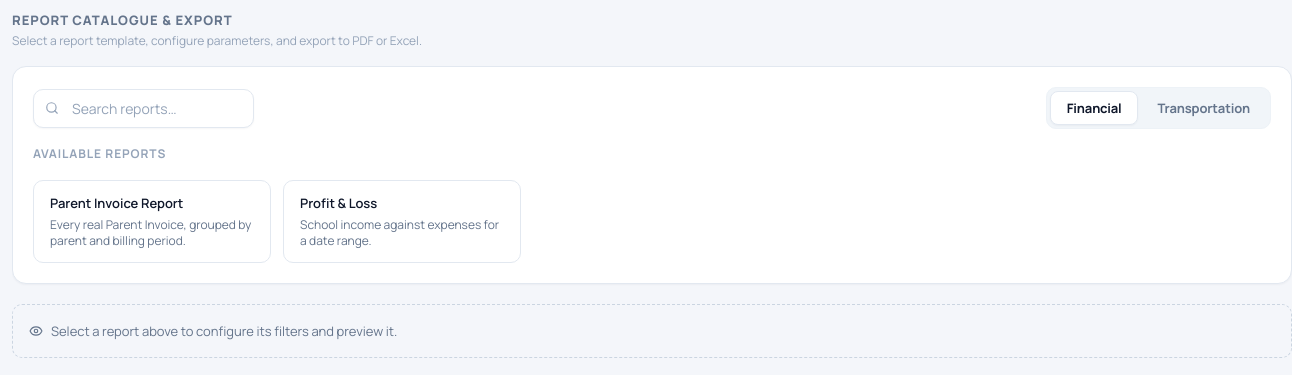
ReportsPage — organization Report Center › searching the catalogue overrides the active category tab
Check: the text "Parent Invoice Report" is shown, box [50,193,183,213]
Type "profit" into the field named "Search the report catalogue".
click(144, 108); type("profit")  # box [33,89,254,128]
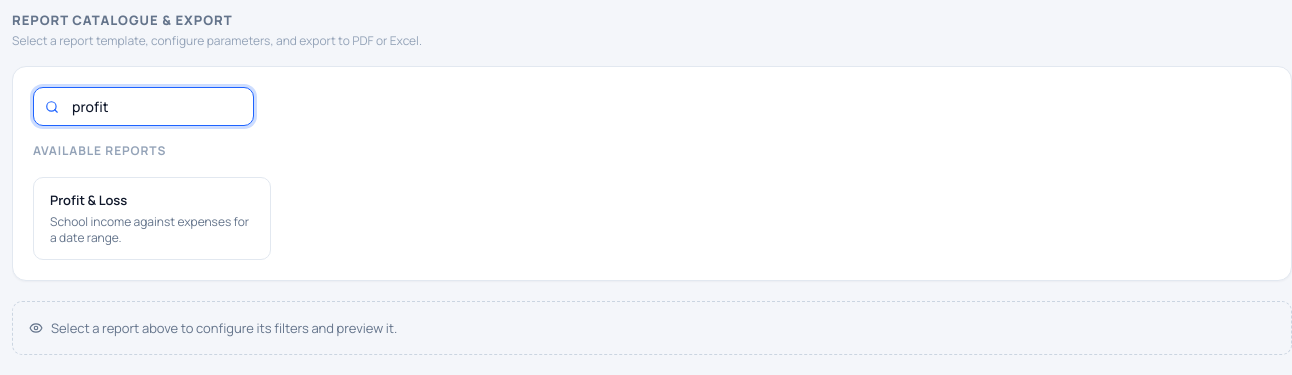
Check: the text "Profit & Loss" is shown, box [50,190,127,210]
Check: the option "Parent Invoice Report" is gone
